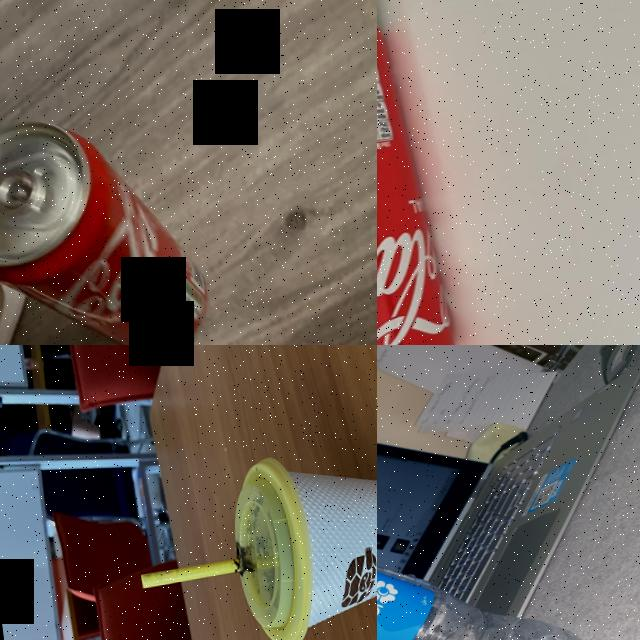bottle: (377, 493, 602, 640)
can: (0, 100, 214, 345), (377, 0, 461, 345)
cup: (218, 433, 377, 640)
